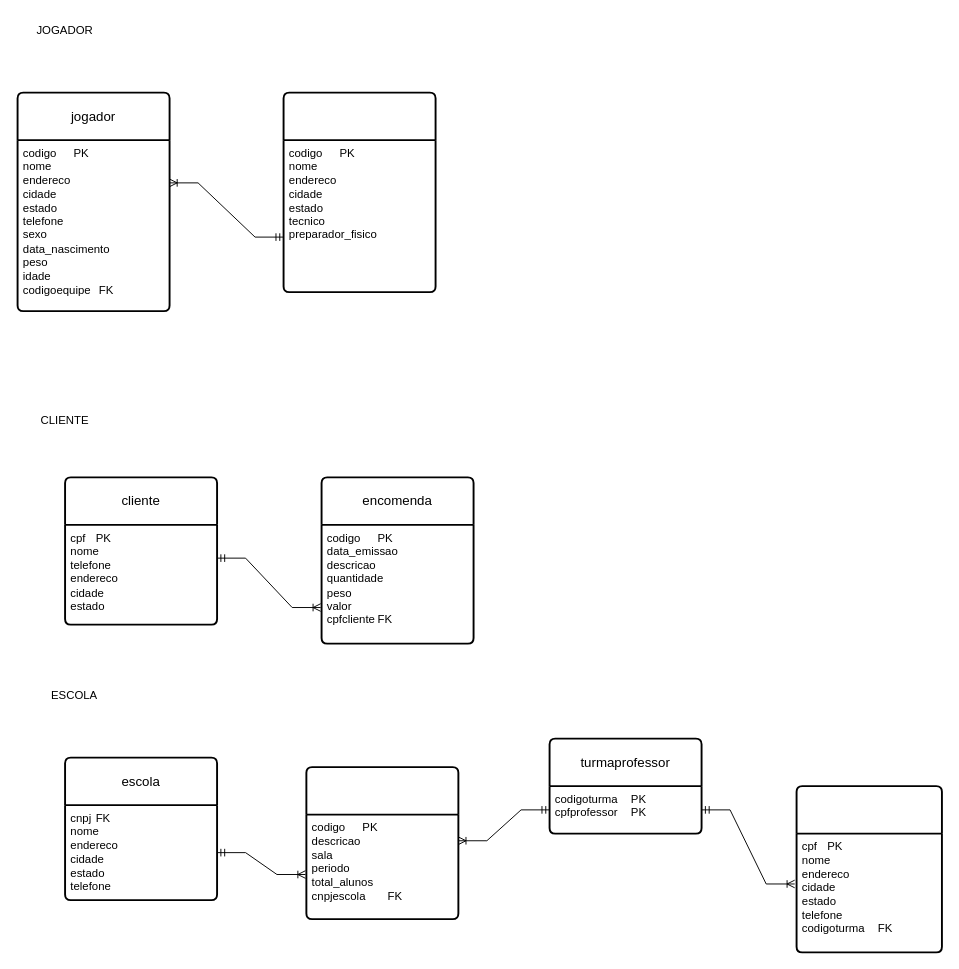
The diagram is 959 pixels wide and 969 high, and some of its shapes have lost their labels. The box of each missing label's shape, as (x1, y1, x2, y2) in pixels:
equipe: (282, 91, 436, 293)
professor: (795, 785, 942, 953)
turma: (305, 766, 459, 920)
